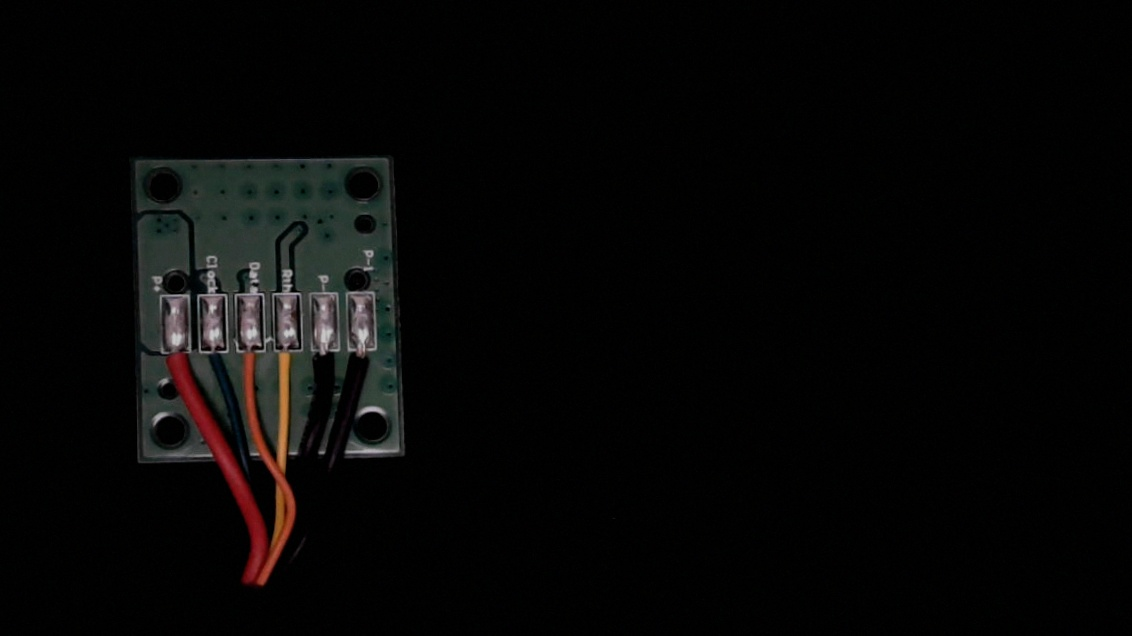Black: (310, 338, 339, 398)
Black1: (348, 337, 377, 392)
Green: (198, 339, 229, 395)
Orange: (235, 340, 265, 399)
Red: (161, 341, 194, 394)
Yellow: (271, 339, 303, 395)
